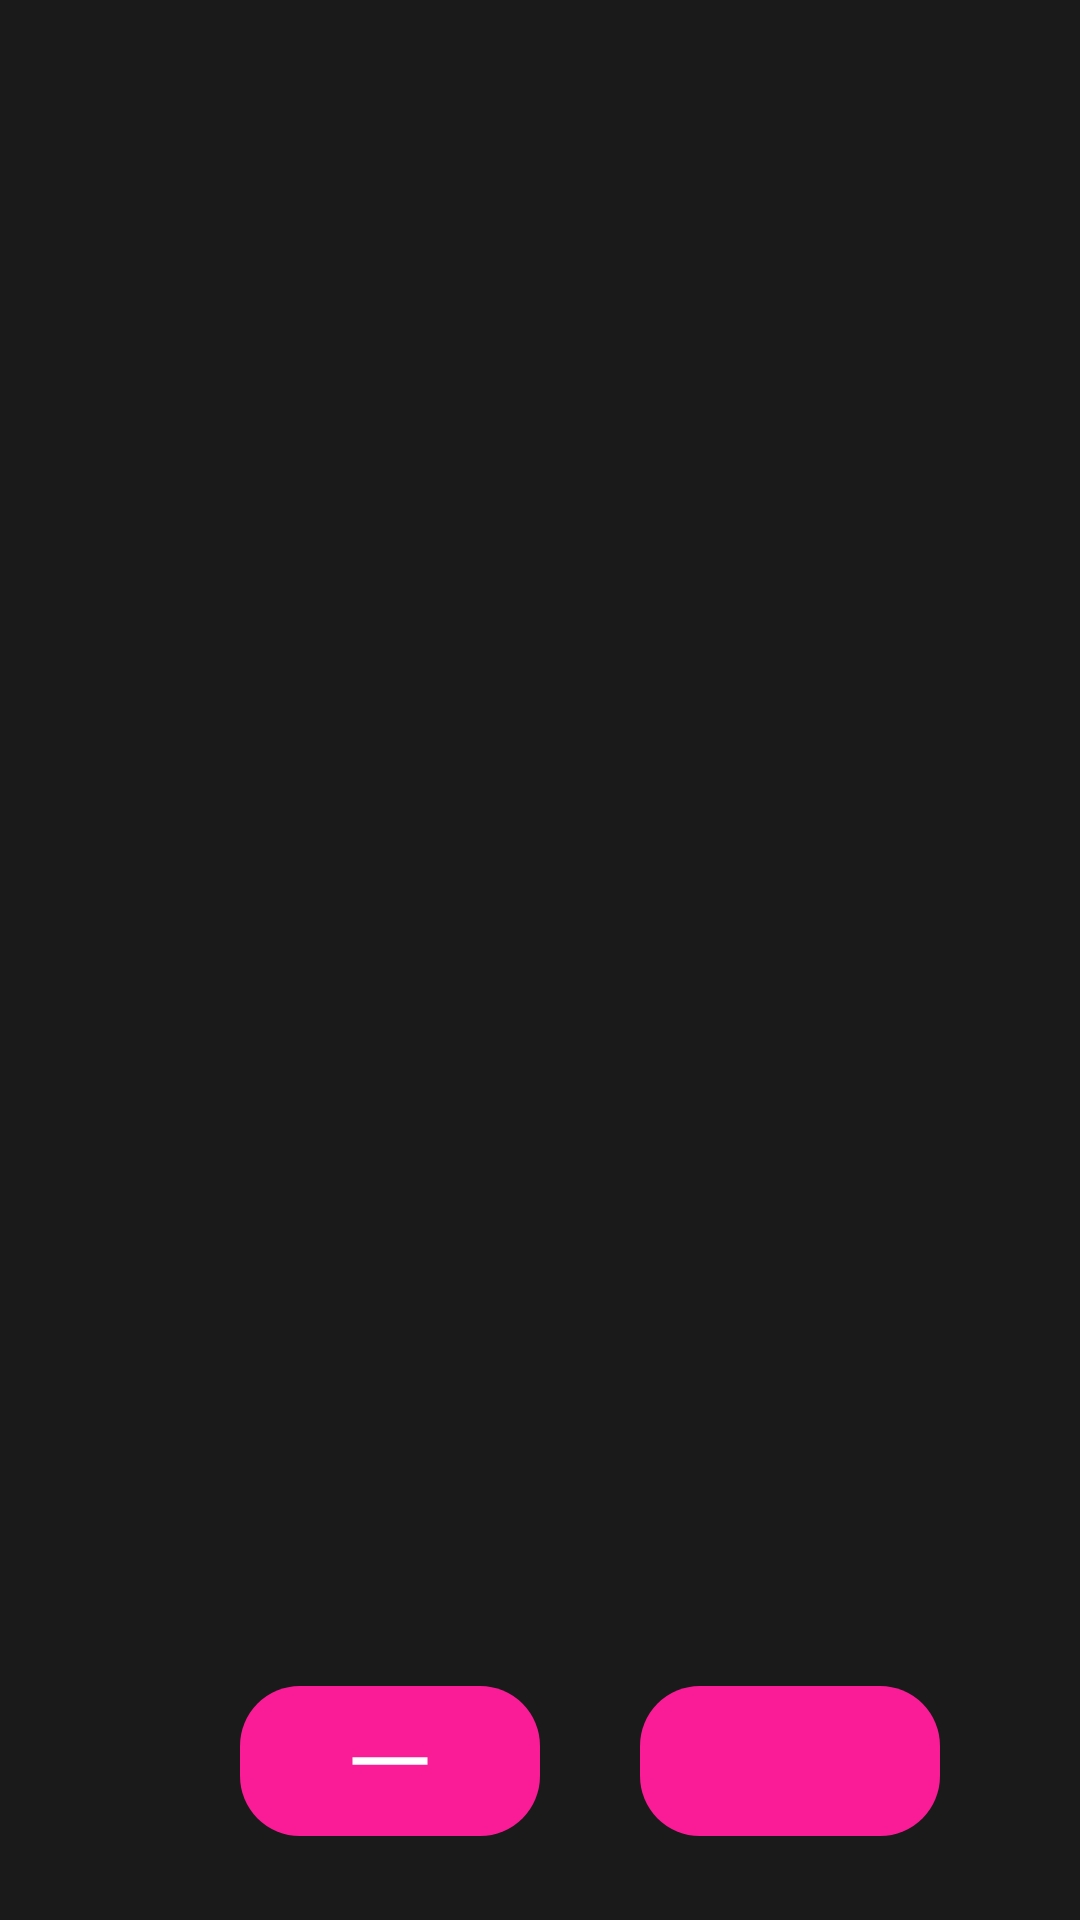

Locate icon controls on the screen. Image size 1080 × 1920, boxes as (x1, y1, x2, y2).
minimize: (240, 1686, 540, 1836)
